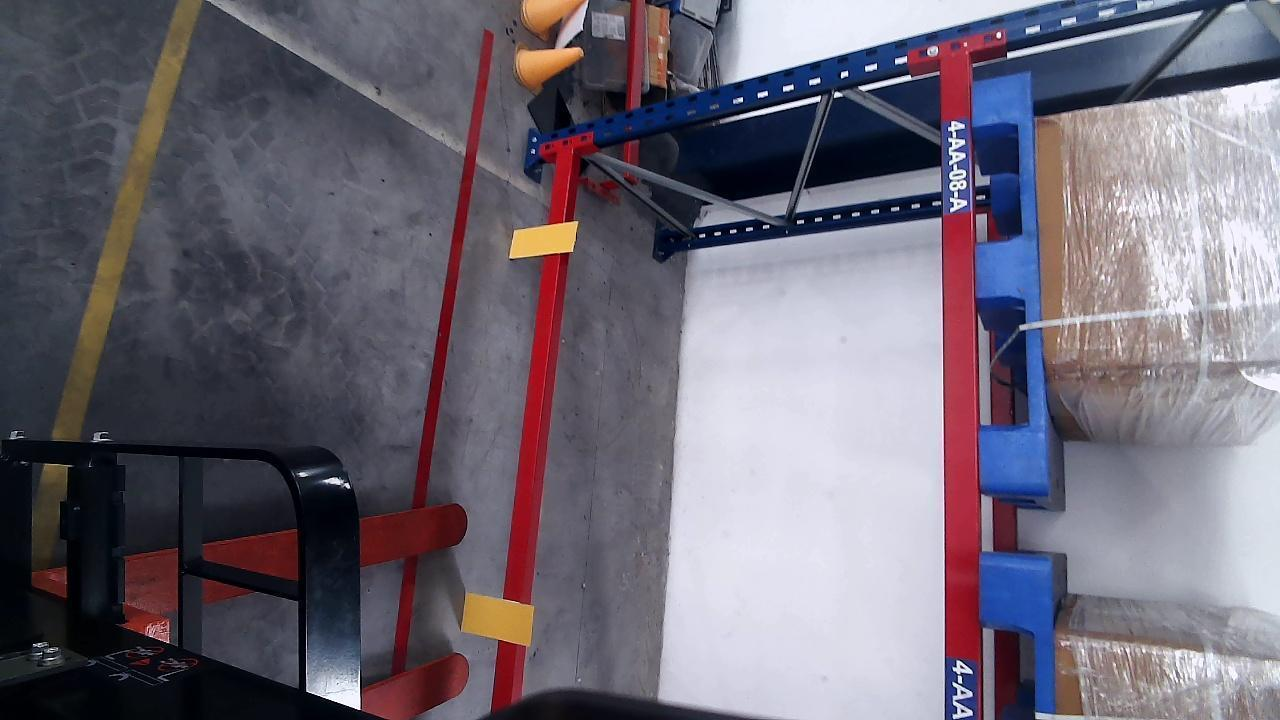red_line: (410, 27, 497, 509)
yellow_line: (46, 0, 206, 440)
